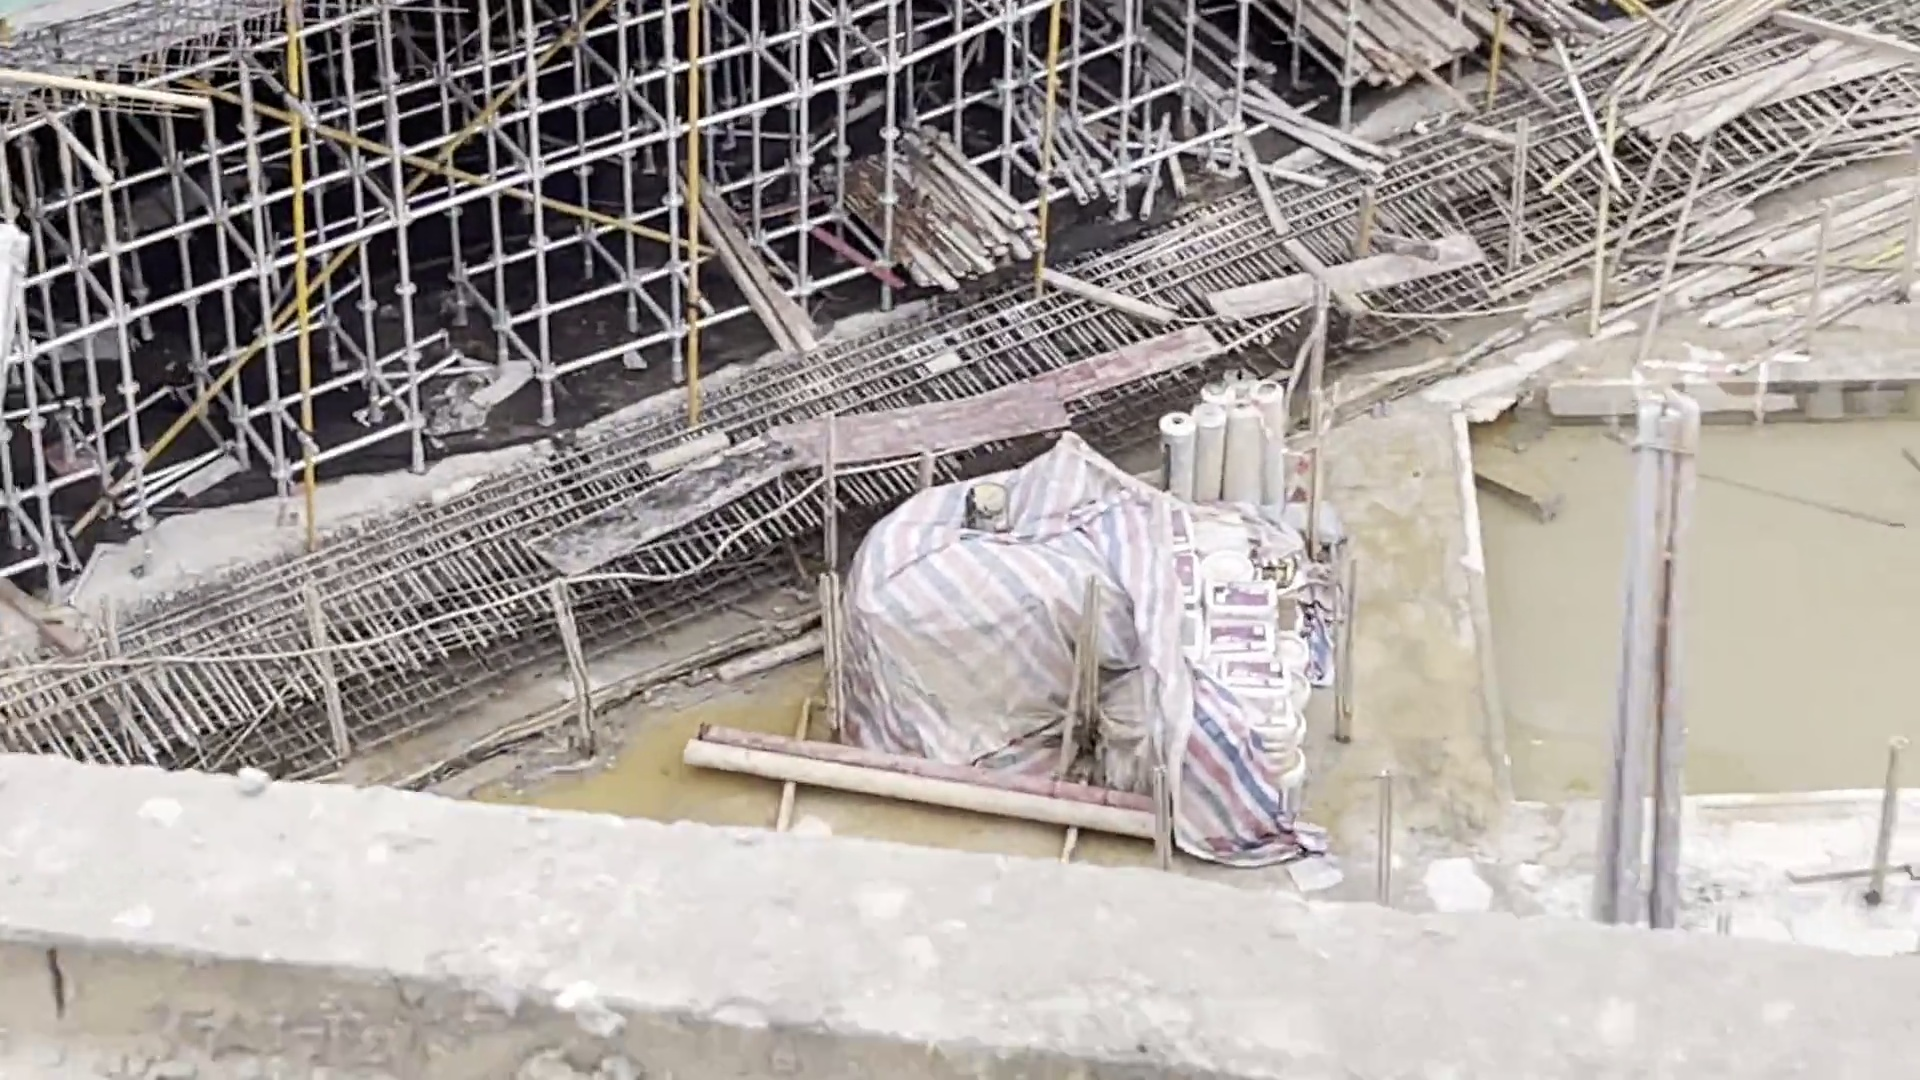wood: (819, 119, 1047, 301)
